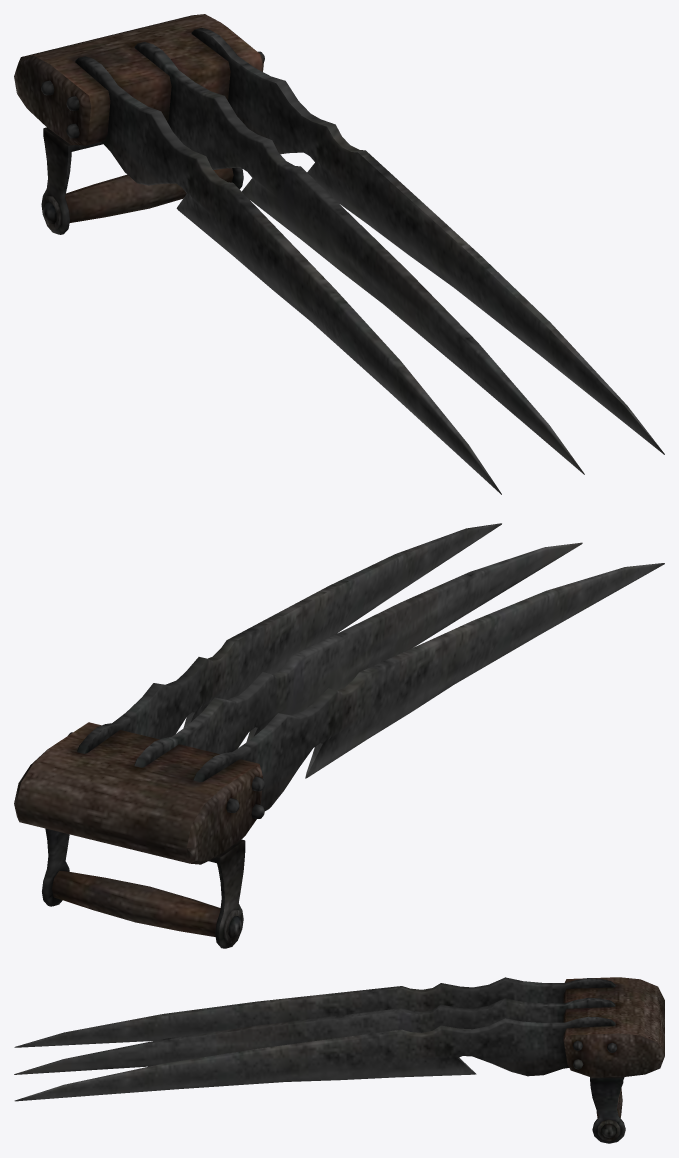
The model's file is claw_r.glb.
3 renders of one model, top to bottom at view 1: azimuth 30°, elevation 25°; view 2: azimuth 150°, elevation 25°; view 3: azimuth 270°, elevation 25°, orthographic. The views are drawn at different scales.
Visible parts, largest first — view 1: claw_r; view 2: claw_r; view 3: claw_r.
Part boxes in pixels (x1,y1,x2,y2): claw_r: (14,14,664,494); claw_r: (14,523,664,948); claw_r: (14,977,664,1143).
Size of the model in its own units: 0.1875 by 0.1571 by 0.8.
Materials: 1 (1 with a texture image).
